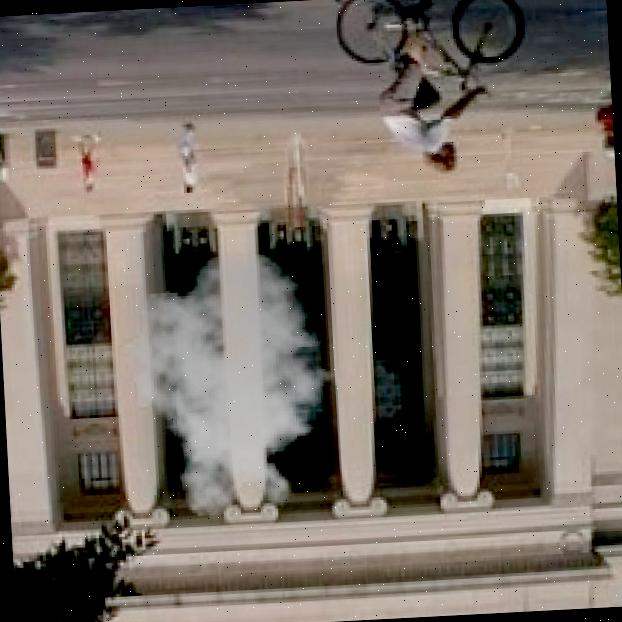smoke: (113, 245, 352, 525)
